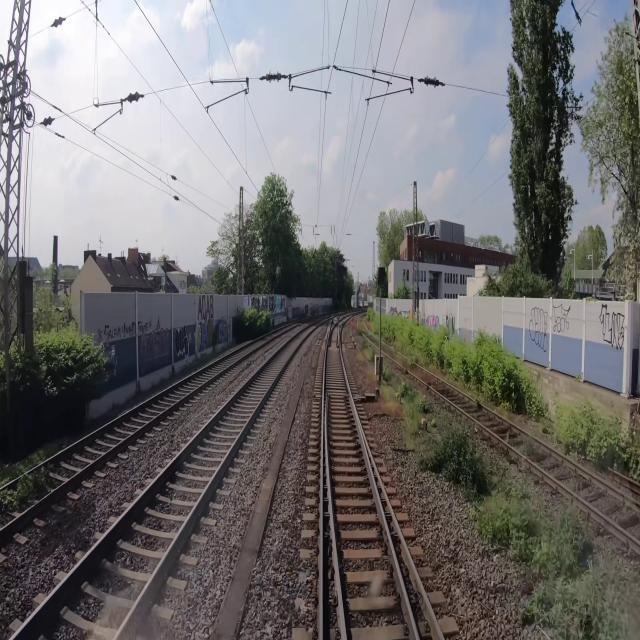Plant: (356, 337, 606, 639), (0, 448, 51, 513)
